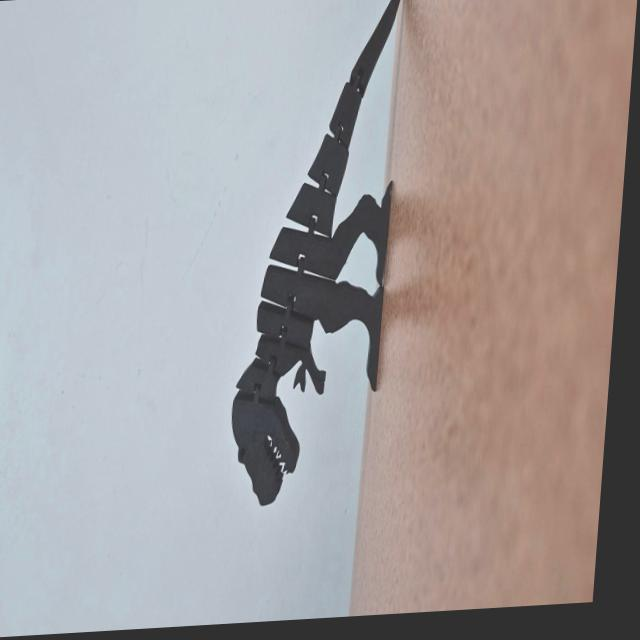dino: (224, 0, 409, 509)
